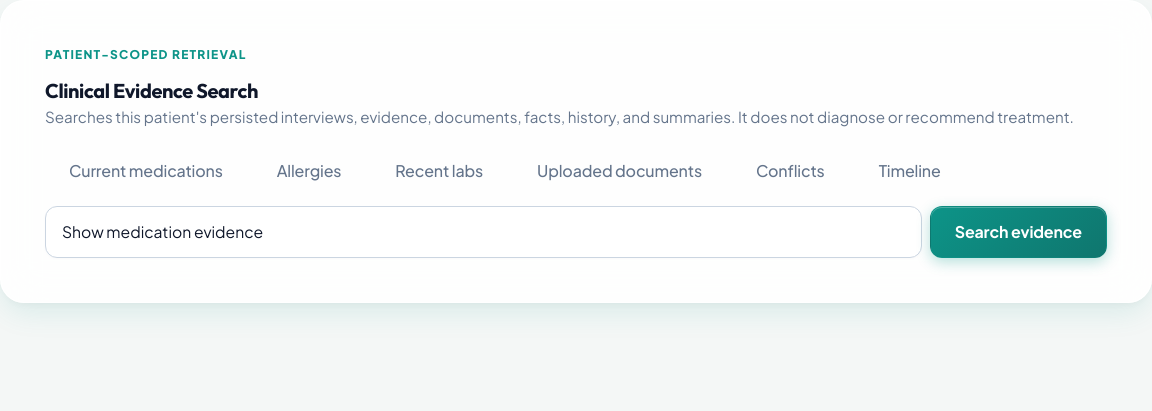
Test case: shows a safe failure state without inventing evidence
Click the button "Search evidence". click: coordinates (1018, 232)
box: top-left (930, 206), bottom-right (1107, 258)
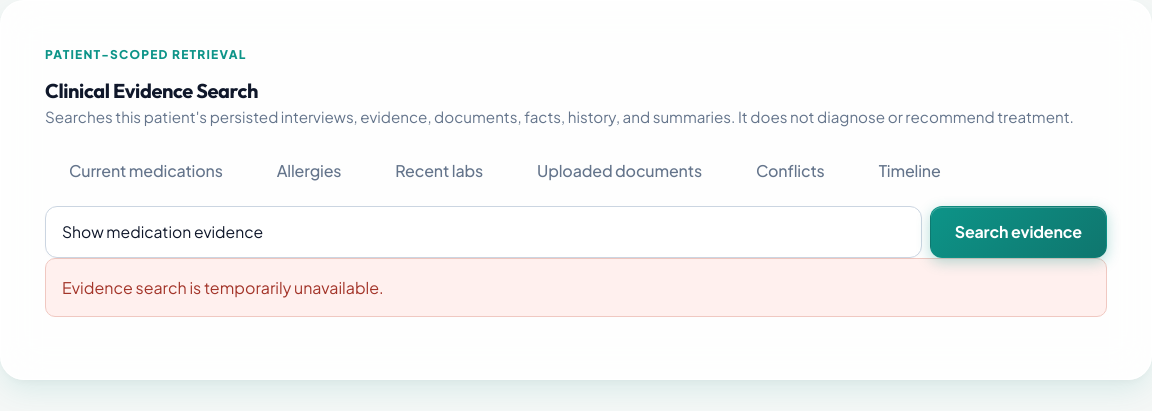
Now the text "Evidence search is temporarily unavailable." is shown, box top-left (45, 258), bottom-right (1107, 317)
